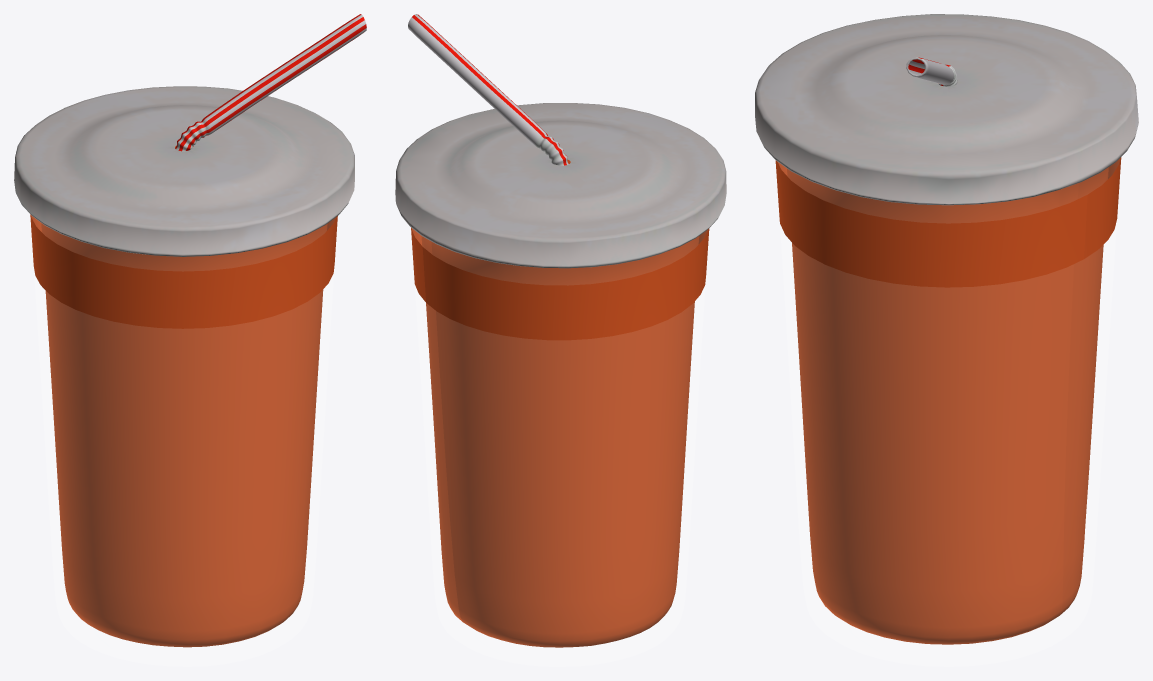
Rendered from Turuncu Cola 4.fbx.
3 renders of one model, left to right at view 1: azimuth 30°, elevation 25°; view 2: azimuth 150°, elevation 25°; view 3: azimuth 270°, elevation 25°, orthographic. The views are drawn at different scales.
Parts seen in each view (by area): view 1: Cube.001, Cube.047, Cube.005, Cube.012; view 2: Cube.001, Cube.047, Cube.005, Cube.012; view 3: Cube.001, Cube.047, Cube.005, Cube.012.
Part boxes in pixels (box(x1,y1,x2,y2)): Cube.001: box(41, 146, 327, 647); Cube.047: box(14, 86, 354, 256); Cube.005: box(30, 214, 337, 666); Cube.012: box(175, 14, 366, 151); Cube.001: box(421, 159, 699, 647); Cube.047: box(395, 103, 726, 268); Cube.005: box(411, 227, 709, 666); Cube.012: box(408, 14, 568, 165); Cube.001: box(787, 167, 1108, 644); Cube.047: box(755, 14, 1138, 205); Cube.005: box(775, 157, 1121, 666); Cube.012: box(906, 57, 957, 86).
Bounding box in the file's own units: 20.32 × 35.49 × 19.14.
4 materials, 1 textured.
